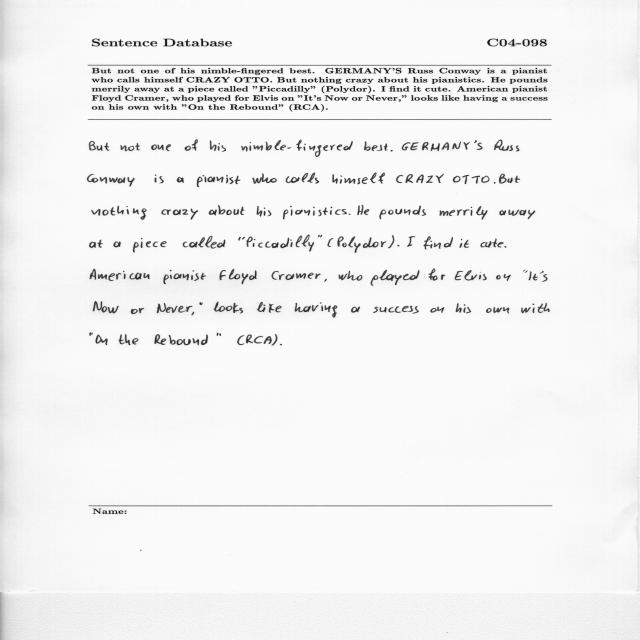word: (241, 140, 353, 157), (247, 235, 314, 252), (402, 140, 483, 151), (338, 236, 387, 253), (283, 206, 347, 219), (371, 270, 420, 286), (92, 206, 147, 220), (90, 269, 149, 281), (440, 206, 488, 220), (295, 303, 337, 318), (88, 174, 135, 187), (379, 206, 426, 219), (163, 270, 206, 284), (154, 334, 208, 345), (332, 173, 385, 184), (220, 269, 257, 284), (183, 236, 225, 249), (197, 175, 240, 187), (133, 238, 166, 252), (272, 271, 321, 280), (396, 174, 444, 183), (423, 236, 453, 250), (162, 209, 199, 220), (209, 205, 244, 216), (373, 306, 419, 314), (286, 173, 319, 184), (455, 270, 487, 281), (246, 334, 278, 345), (157, 303, 192, 313), (213, 302, 243, 313), (453, 175, 489, 184), (499, 210, 535, 219), (93, 302, 119, 314), (521, 303, 550, 313), (494, 140, 519, 151), (252, 173, 277, 184), (257, 302, 282, 313), (364, 141, 388, 151), (339, 271, 363, 281), (481, 238, 504, 248), (119, 334, 139, 345), (499, 174, 520, 184), (429, 269, 446, 281), (90, 141, 110, 151), (120, 143, 140, 152), (210, 141, 226, 152), (257, 206, 271, 217), (456, 304, 471, 314), (185, 140, 198, 151), (151, 144, 171, 151), (486, 307, 509, 313), (89, 239, 103, 248), (357, 205, 369, 215), (96, 335, 108, 345), (496, 274, 511, 281), (388, 236, 395, 249), (528, 272, 538, 281), (407, 236, 415, 247), (540, 271, 548, 282), (431, 307, 445, 313), (155, 175, 164, 184), (460, 239, 469, 248), (131, 308, 144, 314), (238, 335, 245, 345), (328, 238, 334, 247), (351, 307, 360, 313), (113, 242, 121, 248), (177, 177, 184, 183), (238, 237, 245, 241), (318, 235, 322, 238), (523, 270, 527, 273), (199, 302, 203, 305), (217, 333, 221, 336), (324, 279, 327, 282), (191, 312, 194, 315), (90, 333, 93, 336), (504, 246, 507, 248), (391, 150, 393, 152), (494, 182, 496, 184), (349, 213, 351, 215), (397, 245, 400, 246), (280, 344, 282, 345)
